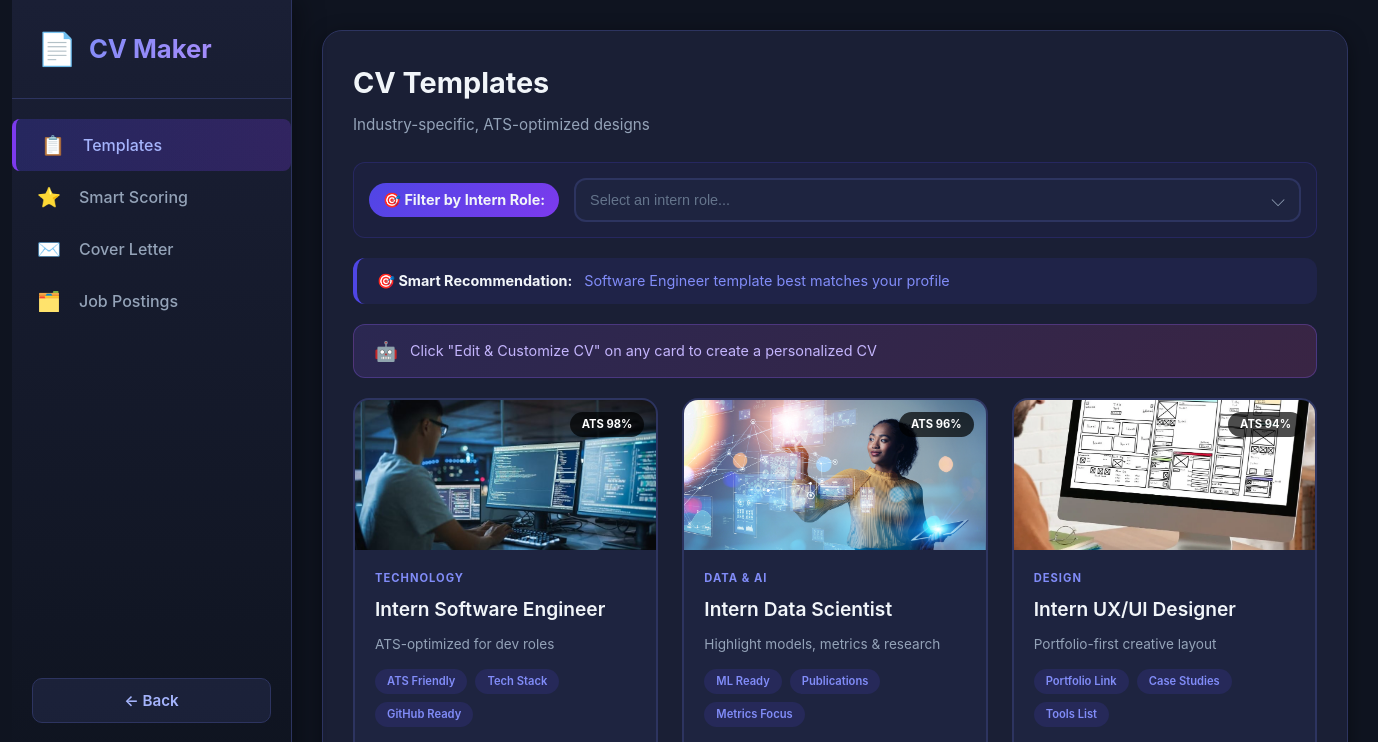
Test case: CVMaker › generates and displays the cover letter text
Click the button "✉️ Cover Letter" at (152, 249), box [12,223,291,275]
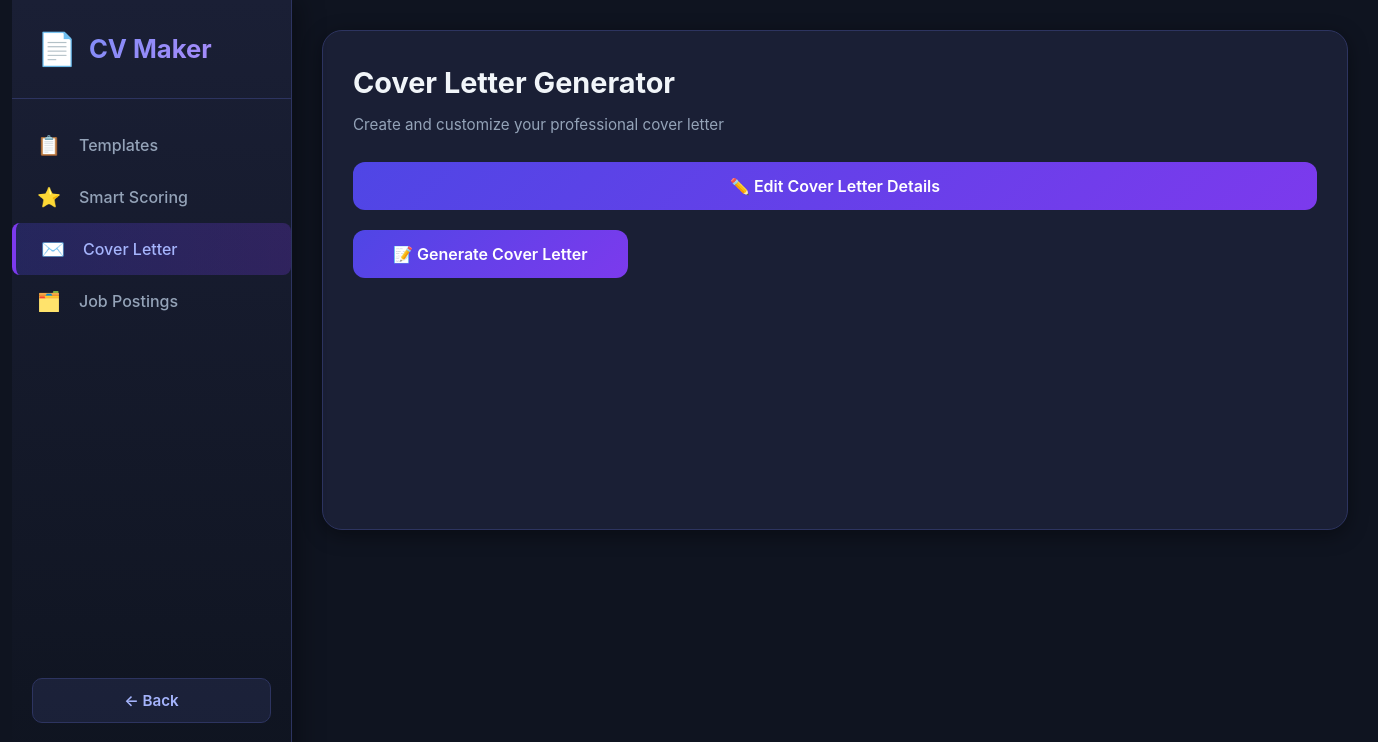
Click the button "📝 Generate Cover Letter" at (490, 254), box [353,230,628,278]
(page scrolled)
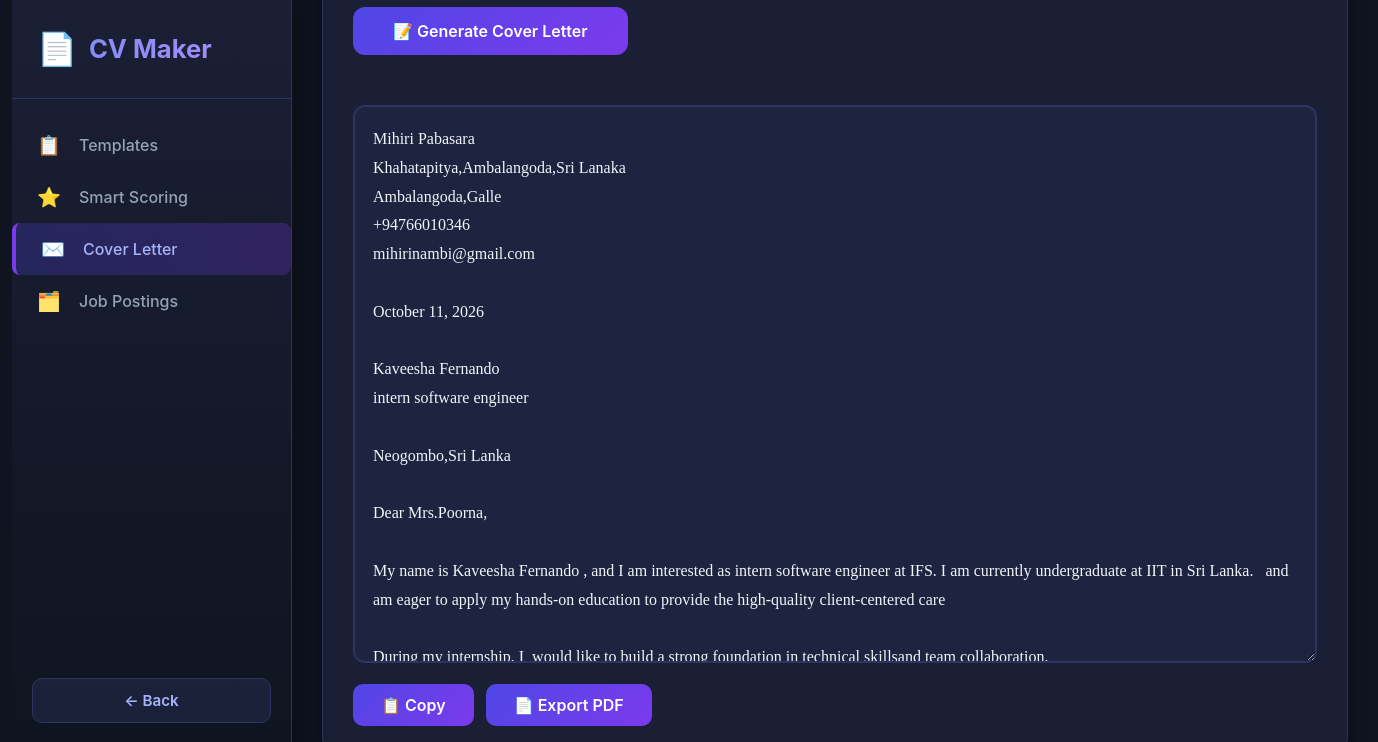
Expected: the text box showing "dear mrs.poorna," is shown, [353,105,1317,663]
